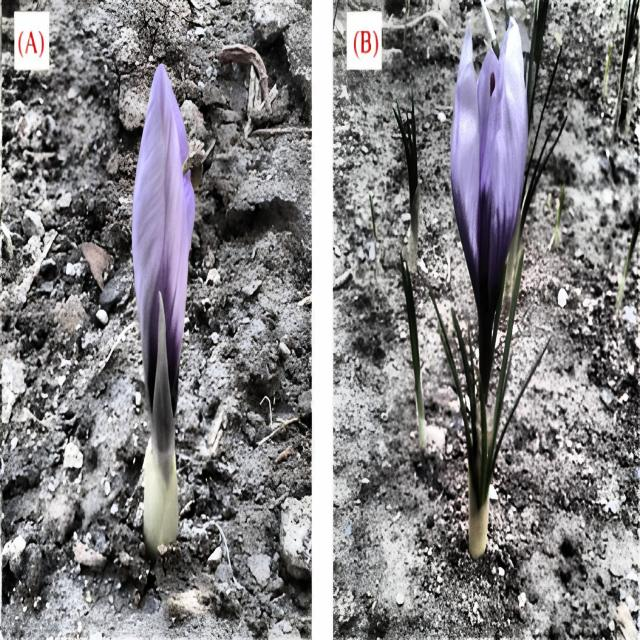Flower: (448, 11, 531, 342), (130, 58, 197, 436)
